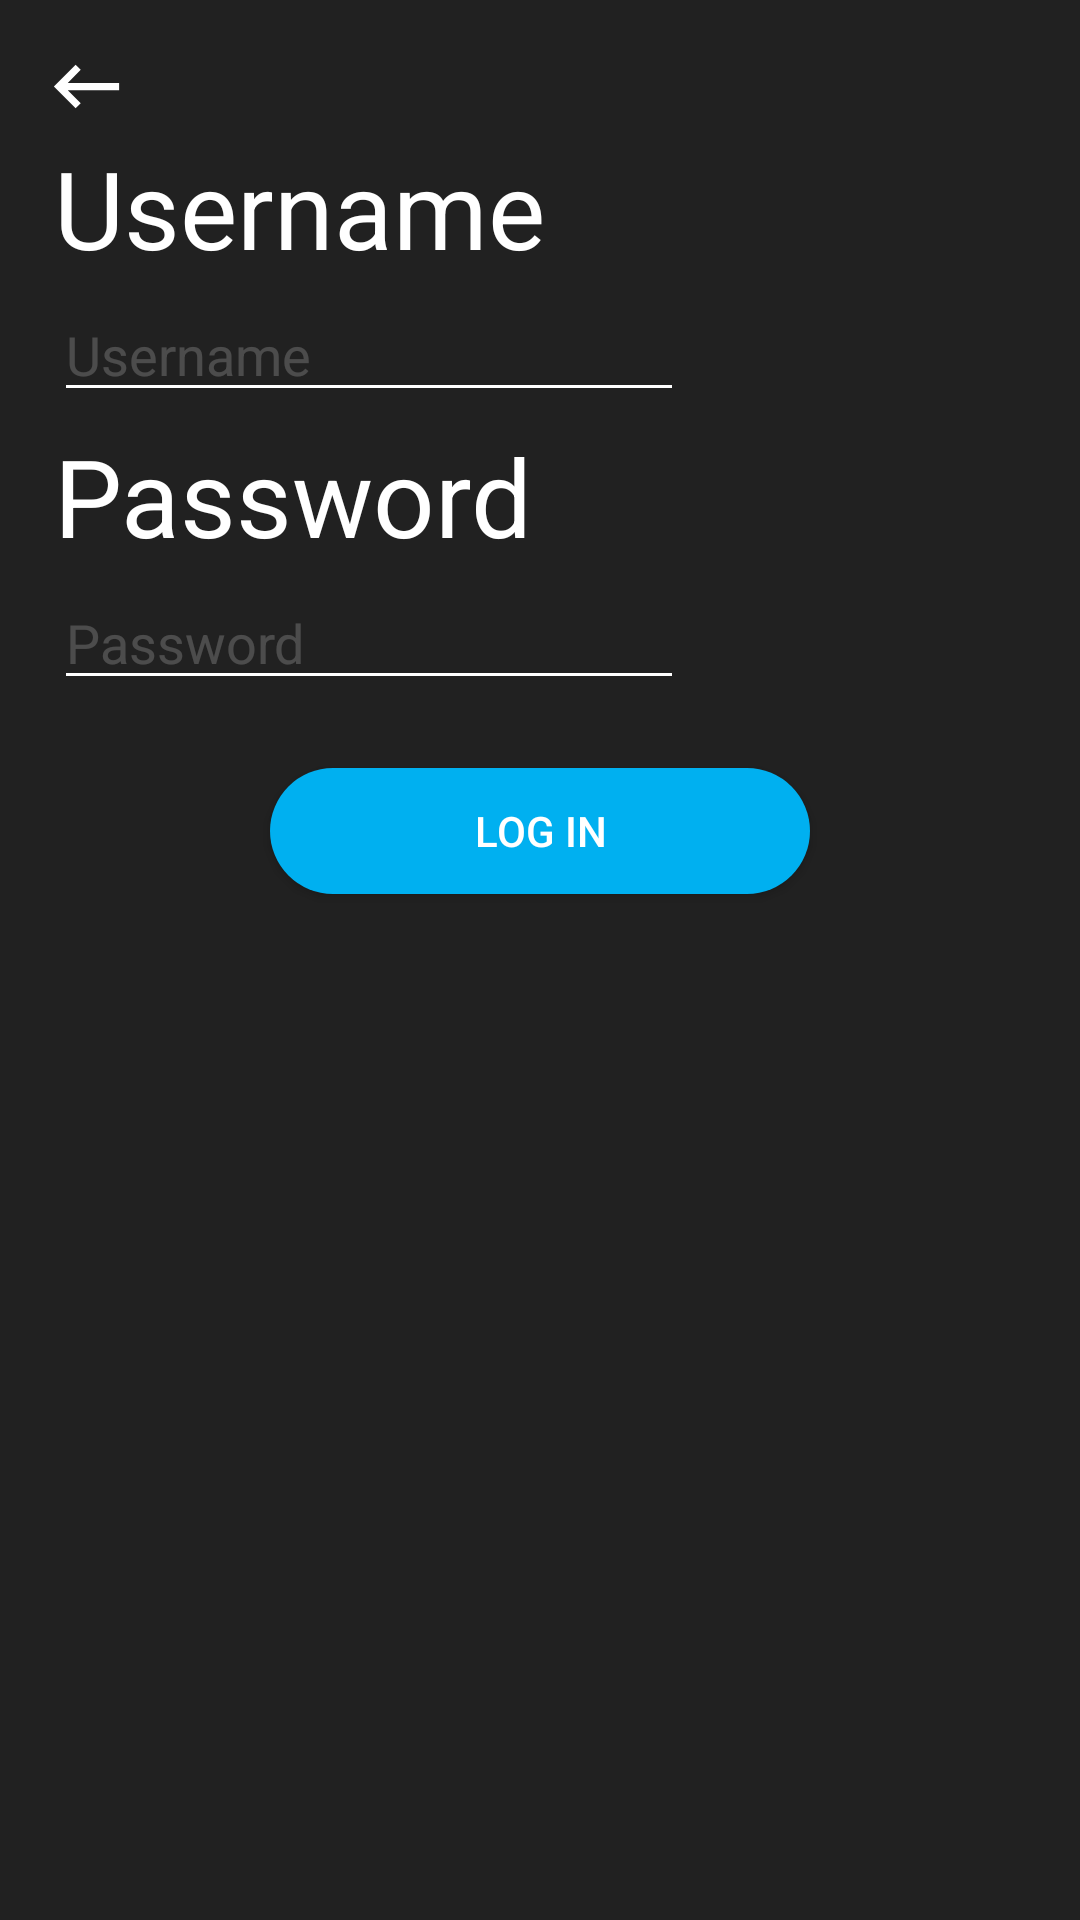

Where icons sit on this 1080x1920 app screen, as [x1,y1,x2,y2]:
keyboard backspace: [54,65,120,108]
